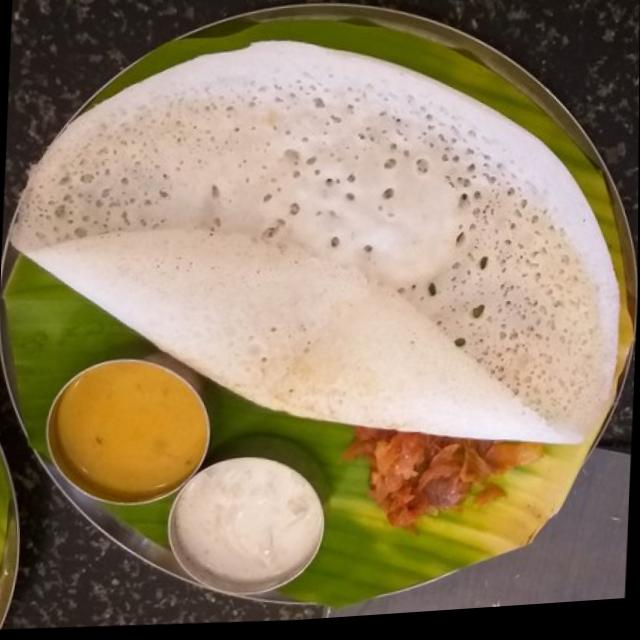AAPAM: (14, 40, 623, 436)
